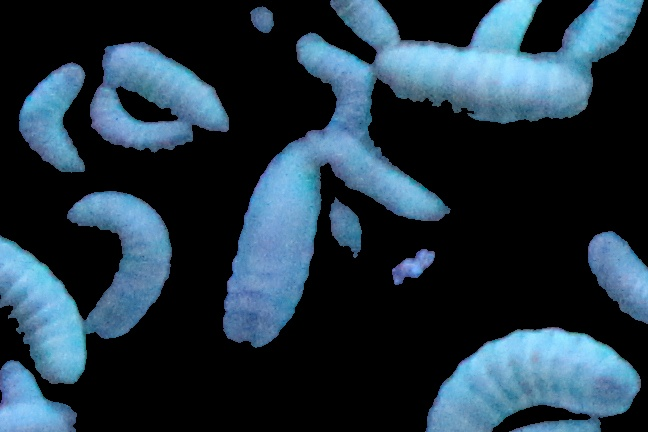larvae: (414, 326, 643, 429), (223, 137, 314, 337), (377, 37, 592, 120), (64, 188, 173, 334), (311, 125, 454, 214), (1, 234, 84, 382), (99, 41, 231, 134), (15, 61, 94, 175), (84, 89, 194, 151), (585, 226, 648, 328), (557, 1, 644, 60), (296, 32, 375, 95), (452, 1, 545, 52), (317, 1, 400, 48), (1, 401, 78, 432), (1, 362, 42, 401)
